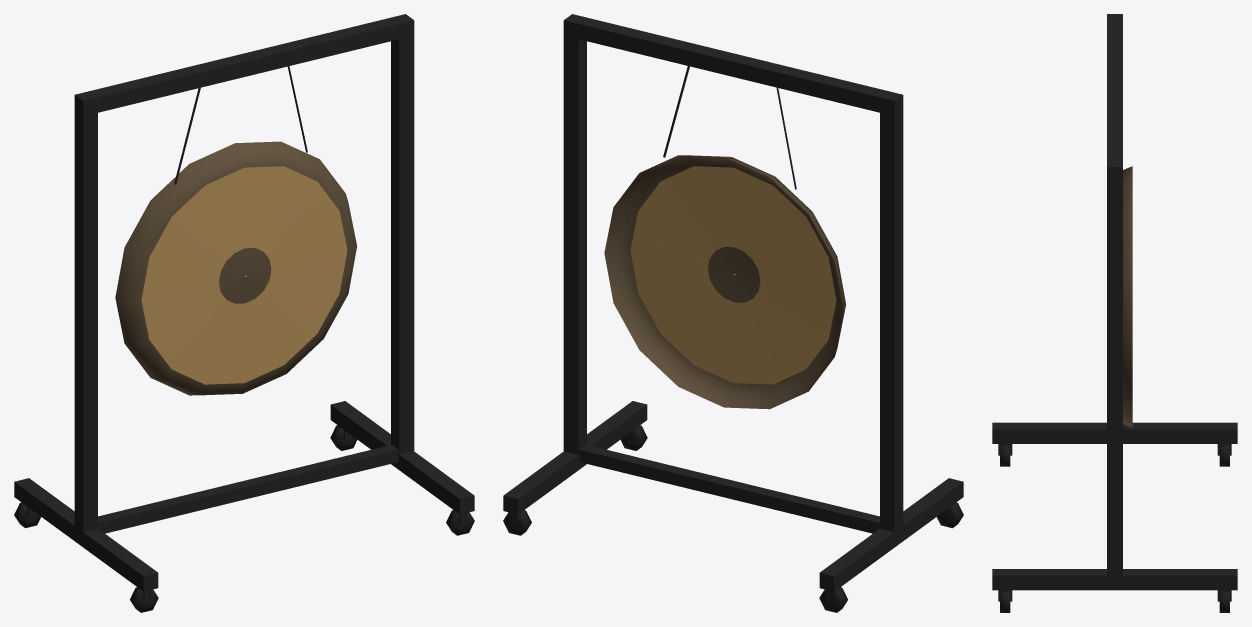
File: gong-32-low.glb
3 views of the same model, side by side, from view 1: azimuth 30°, elevation 25°; view 2: azimuth 150°, elevation 25°; view 3: azimuth 270°, elevation 25° (orthographic). The views are drawn at different scales.
Visible parts, largest first — view 1: frame, gong, gong-dark, rubber; view 2: frame, gong, gong-dark, rubber; view 3: frame, gong-dark, rubber.
Boxes of the visible parts, x1=… form: frame: x1=14, y1=14, x2=474, y2=602; gong: x1=141, y1=166, x2=347, y2=384; gong-dark: x1=115, y1=141, x2=356, y2=395; rubber: x1=14, y1=66, x2=474, y2=612; frame: x1=503, y1=14, x2=963, y2=602; gong: x1=630, y1=166, x2=836, y2=384; gong-dark: x1=604, y1=155, x2=845, y2=409; rubber: x1=503, y1=66, x2=963, y2=612; frame: x1=992, y1=14, x2=1237, y2=601; gong-dark: x1=1123, y1=166, x2=1132, y2=427; rubber: x1=1000, y1=445, x2=1229, y2=612.
Bounding box in the file's own units: 1.15 × 1.53 × 0.76.
